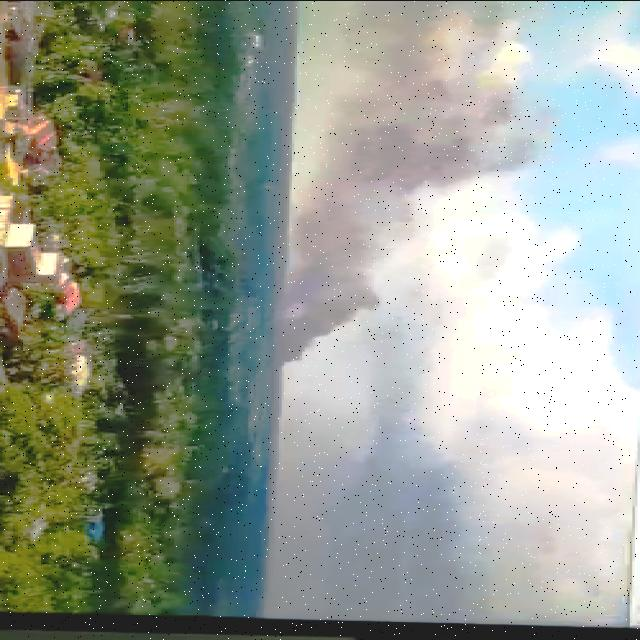asap: (265, 3, 569, 375)
